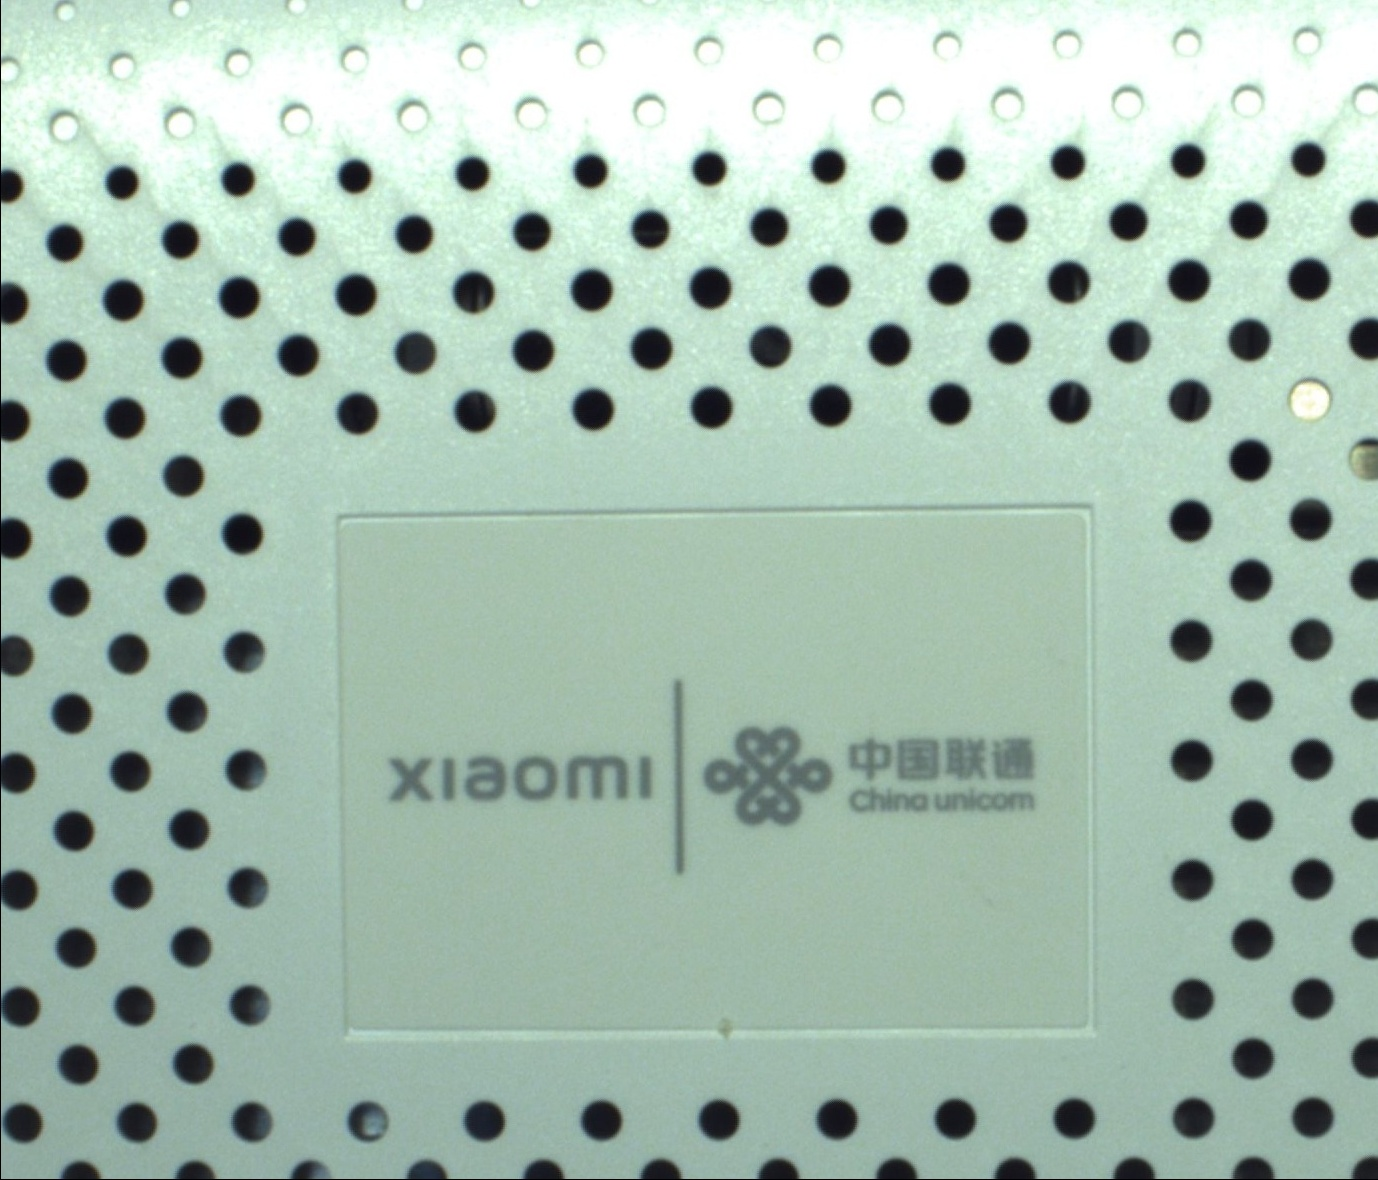MAC_NewUnicom: (364, 672, 1046, 870)
